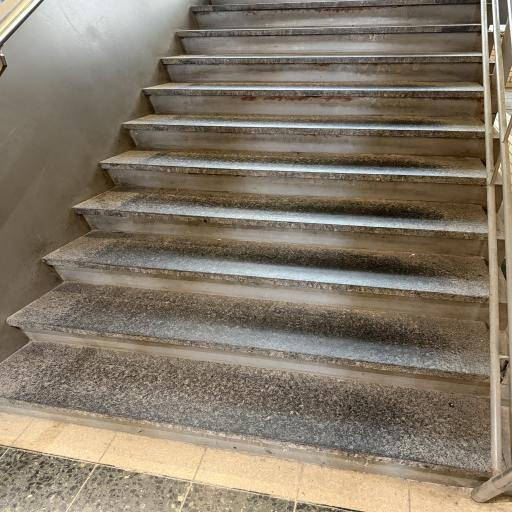Stairs: (0, 0, 507, 486), (144, 82, 483, 119), (191, 0, 480, 29)
